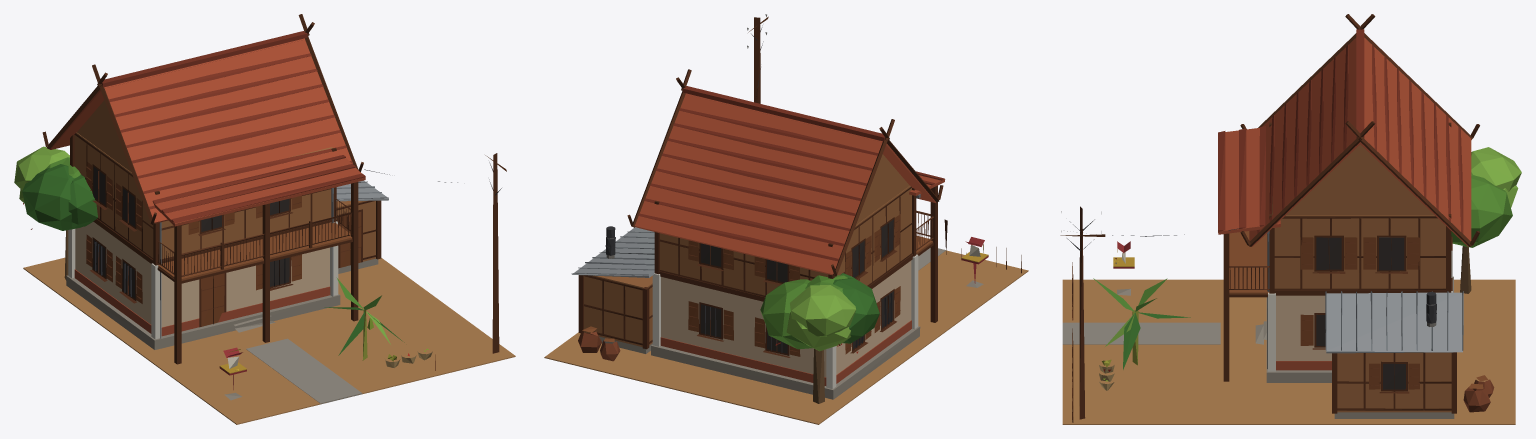
Rendered from house12_2.glb.
3 views of the same model, side by side, from view 1: azimuth 30°, elevation 25°; view 2: azimuth 150°, elevation 25°; view 3: azimuth 270°, elevation 25° (orthographic). The views are drawn at different scales.
Visible parts, largest first — view 1: body, windows; view 2: body, windows; view 3: body, windows.
Boxes of the visible parts, x1=… form: body: x1=14, y1=14, x2=515, y2=424; windows: x1=93, y1=167, x2=289, y2=298; body: x1=544, y1=14, x2=1028, y2=424; windows: x1=700, y1=219, x2=893, y2=353; body: x1=1060, y1=14, x2=1521, y2=424; windows: x1=1316, y1=237, x2=1405, y2=389.
Size of the model in its own units: 13.09 by 10.43 by 16.32.
